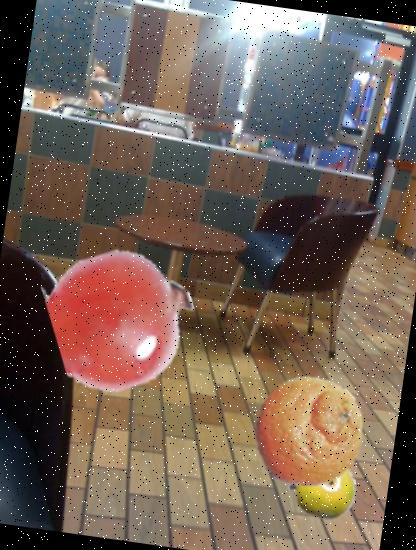Mandarine: (244, 367, 374, 497)
Maracuja: (288, 454, 361, 528)
Redcurrant: (44, 240, 204, 400)
